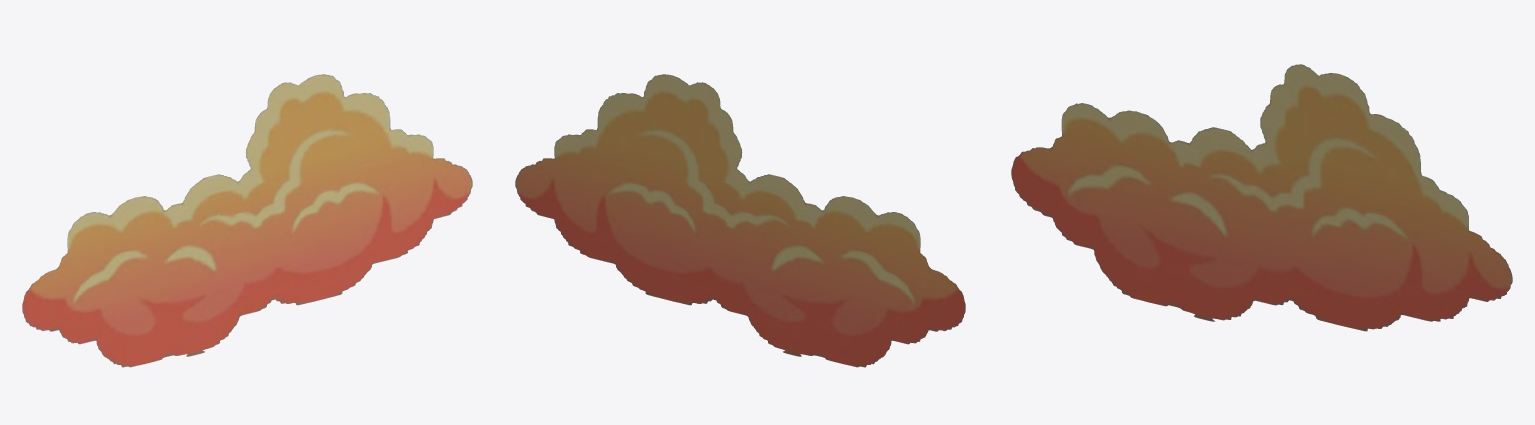
The model's file is Adr_Nube_001.fbx.
The picture shows the model from 3 angles, left to right: view 1: azimuth 30°, elevation 25°; view 2: azimuth 150°, elevation 25°; view 3: azimuth 330°, elevation 25°; orthographic projection. The views are drawn at different scales.
Visible parts, largest first — view 1: Plane; view 2: Plane; view 3: Plane.
Boxes of the visible parts, x1,y1,x2,y2 form: Plane: (22, 74, 472, 367); Plane: (515, 74, 965, 367); Plane: (1011, 64, 1512, 331).
Bounding box in the file's own units: 840 × 490 × 2.14e-05.
